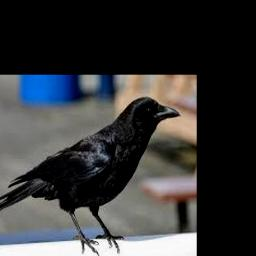Crow: (0, 96, 181, 253)
